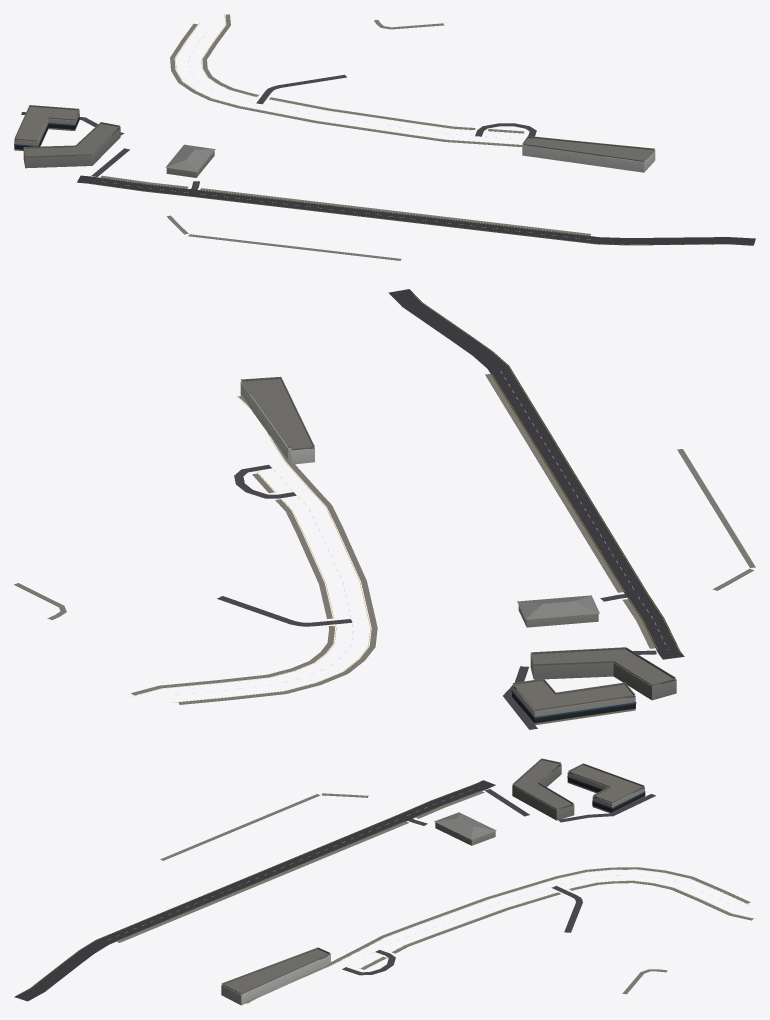
3 views of the same model, one above another, from view 1: azimuth 30°, elevation 25°; view 2: azimuth 150°, elevation 25°; view 3: azimuth 270°, elevation 25° (orthographic). The views are drawn at different scales.
Parts seen in each view (by area): view 1: Buildings__r-1c-7-col, Roads_Major__r-1c-7, Sidewalks__r-1c-7-col, Roads_Minor__r-1c-7, Markings__r-1c-7; view 2: Buildings__r-1c-7-col, Roads_Major__r-1c-7, Sidewalks__r-1c-7-col, Roads_Minor__r-1c-7, Markings__r-1c-7, Windows__r-1c-7; view 3: Buildings__r-1c-7-col, Roads_Major__r-1c-7, Sidewalks__r-1c-7-col, Roads_Minor__r-1c-7, Markings__r-1c-7, Windows__r-1c-7.
Part boxes in pixels (<box>): Buildings__r-1c-7-col: <box>14,105,655,177</box>; Roads_Major__r-1c-7: <box>77,175,755,245</box>; Sidewalks__r-1c-7-col: <box>100,14,647,260</box>; Roads_Minor__r-1c-7: <box>21,74,536,189</box>; Markings__r-1c-7: <box>83,14,738,244</box>; Buildings__r-1c-7-col: <box>240,376,676,725</box>; Roads_Major__r-1c-7: <box>388,289,684,659</box>; Sidewalks__r-1c-7-col: <box>14,374,755,704</box>; Roads_Minor__r-1c-7: <box>217,464,656,729</box>; Markings__r-1c-7: <box>132,296,681,702</box>; Windows__r-1c-7: <box>511,680,673,723</box>; Buildings__r-1c-7-col: <box>221,758,644,1005</box>; Roads_Major__r-1c-7: <box>14,780,495,1001</box>; Sidewalks__r-1c-7-col: <box>116,791,753,1003</box>; Roads_Minor__r-1c-7: <box>342,789,655,975</box>; Markings__r-1c-7: <box>23,782,755,1003</box>; Windows__r-1c-7: <box>513,765,645,812</box>.
Size of the model in its own units: 320 by 7.45 by 426.
